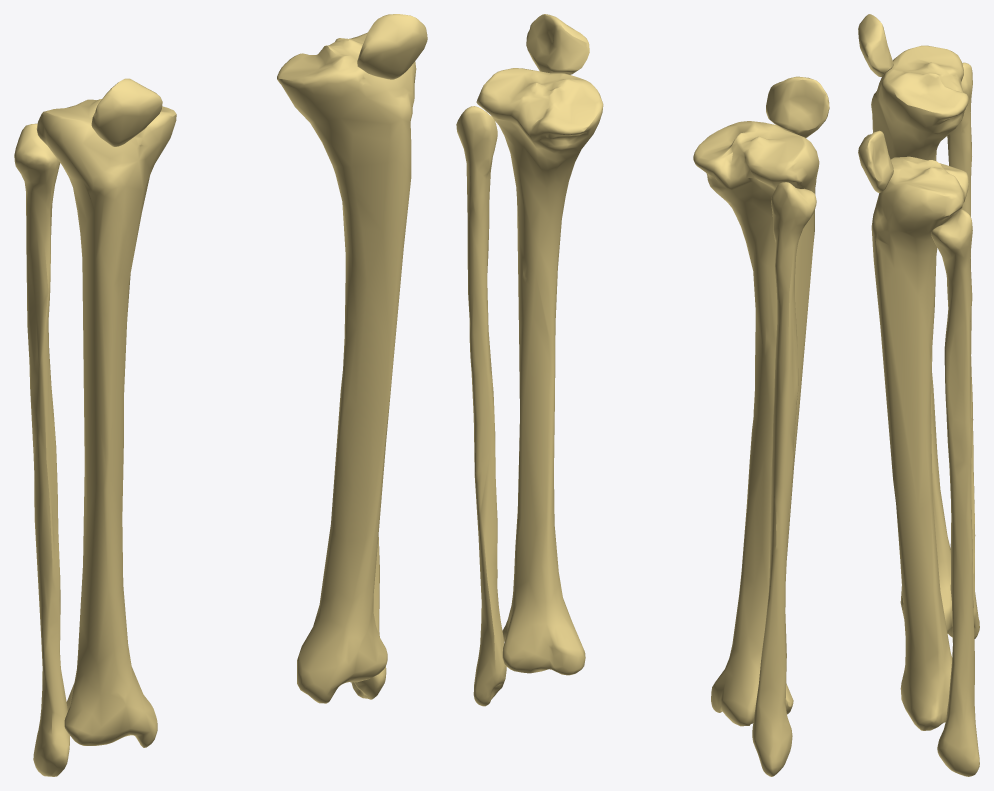
Rendered from knee.glb.
3 renders of one model, left to right at view 1: azimuth 30°, elevation 25°; view 2: azimuth 150°, elevation 25°; view 3: azimuth 270°, elevation 25°, orthographic. The views are drawn at different scales.
Parts seen in each view (by area): view 1: knee:tibia:isa:FJ3282, knee:tibia:isa:FJ3387, knee:fibula:isa:FJ3366, knee:patella:isa:FJ3275, knee:patella:isa:FJ3381, knee:fibula:isa:FJ3260; view 2: knee:tibia:isa:FJ3282, knee:tibia:isa:FJ3387, knee:fibula:isa:FJ3366, knee:fibula:isa:FJ3260, knee:patella:isa:FJ3381, knee:patella:isa:FJ3275; view 3: knee:tibia:isa:FJ3282, knee:fibula:isa:FJ3260, knee:tibia:isa:FJ3387, knee:fibula:isa:FJ3366, knee:patella:isa:FJ3275, knee:patella:isa:FJ3381.
Boxes of the visible parts, x1=… form: knee:tibia:isa:FJ3282: x1=277, y1=32, x2=416, y2=703; knee:tibia:isa:FJ3387: x1=36, y1=99, x2=176, y2=747; knee:fibula:isa:FJ3366: x1=14, y1=123, x2=69, y2=776; knee:patella:isa:FJ3275: x1=357, y1=14, x2=427, y2=79; knee:patella:isa:FJ3381: x1=91, y1=78, x2=162, y2=146; knee:fibula:isa:FJ3260: x1=351, y1=536, x2=386, y2=699; knee:tibia:isa:FJ3282: x1=476, y1=68, x2=603, y2=675; knee:tibia:isa:FJ3387: x1=693, y1=121, x2=819, y2=726; knee:fibula:isa:FJ3366: x1=752, y1=182, x2=816, y2=776; knee:fibula:isa:FJ3260: x1=456, y1=106, x2=506, y2=706; knee:patella:isa:FJ3381: x1=766, y1=76, x2=829, y2=137; knee:patella:isa:FJ3275: x1=526, y1=14, x2=589, y2=74; knee:tibia:isa:FJ3282: x1=871, y1=156, x2=968, y2=730; knee:fibula:isa:FJ3260: x1=931, y1=209, x2=979, y2=776; knee:tibia:isa:FJ3387: x1=871, y1=45, x2=973, y2=632; knee:fibula:isa:FJ3366: x1=946, y1=62, x2=979, y2=638; knee:patella:isa:FJ3275: x1=858, y1=130, x2=893, y2=192; knee:patella:isa:FJ3381: x1=858, y1=14, x2=893, y2=76.
Size of the model in its own units: 0.2403 by 0.4261 by 0.0743.
